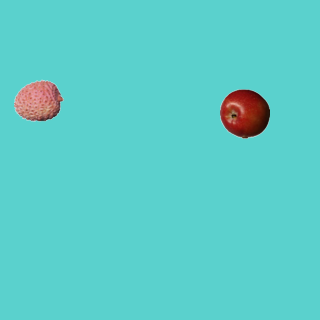Apple Braeburn: (219, 88, 269, 138)
Lychee: (13, 75, 63, 125)
